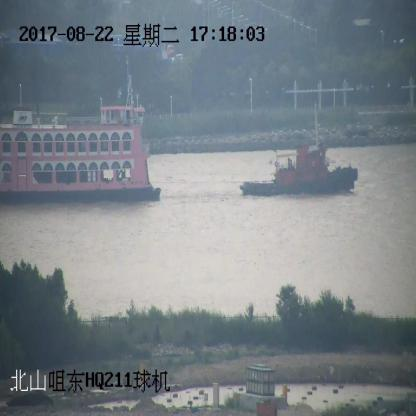Fishing Boat: (239, 103, 358, 197)
